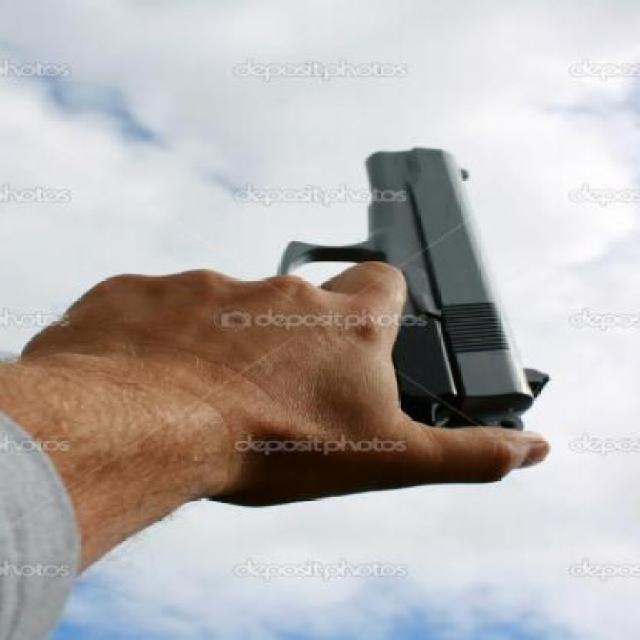gun: (210, 135, 578, 483)
